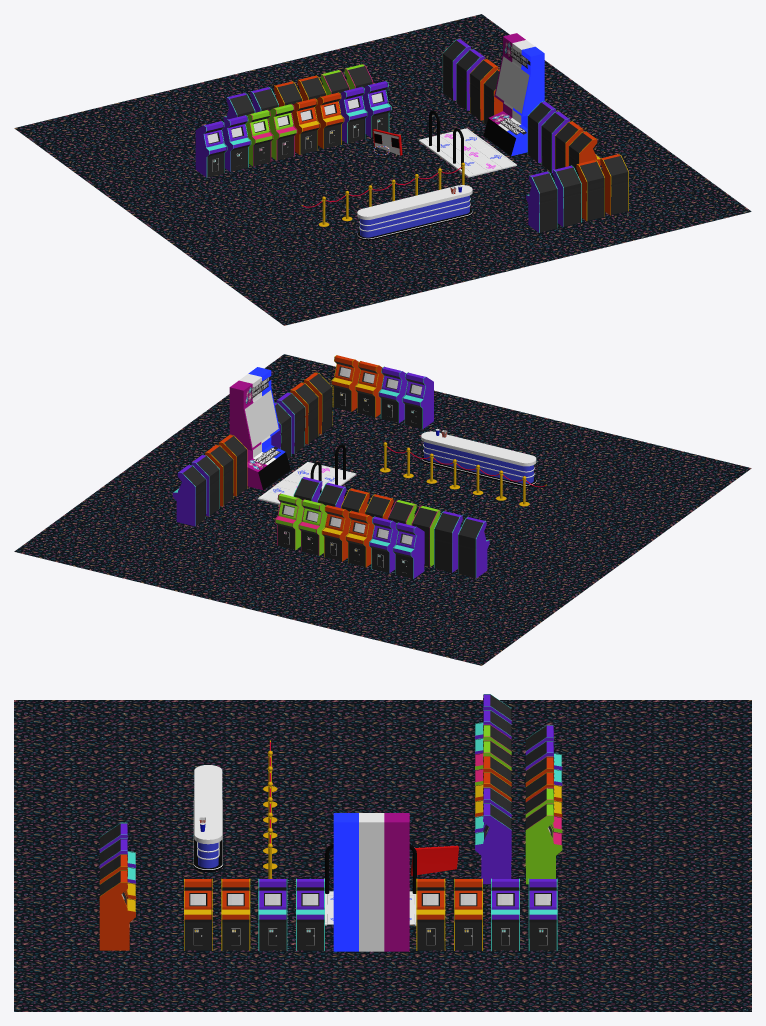
File: cenarioflipWaM.fbx
3 renders of one model, top to bottom at view 1: azimuth 30°, elevation 25°; view 2: azimuth 150°, elevation 25°; view 3: azimuth 270°, elevation 25°, orthographic. The views are drawn at different scales.
Visible parts, largest first — view 1: chao, ddr, balcaõ, arcade.011, arcade.012, arcade, arcade.001, arcade.002, arcade.003, arcade.004, arcade.006, arcade.005 (+6 smaller); view 2: chao, ddr, balcaõ, arcade, arcade.008, arcade.011, arcade.009, arcade.012, arcade.004, arcade.010, arcade.007, arcade.005 (+5 smaller); view 3: chao, ddr, arcade.004, arcade.005, arcade.006, arcade.007, balcaõ, arcade.012, arcade.002, arcade.010, arcade.008, arcade.011 (+6 smaller).
Part boxes in pixels (box(x1,y1,x2,y2)): chao: box(14, 14, 751, 325); ddr: box(418, 33, 544, 177); balcaõ: box(357, 185, 472, 240); arcade.011: box(526, 165, 581, 232); arcade.012: box(576, 153, 628, 221); arcade: box(195, 115, 251, 177); arcade.001: box(292, 92, 344, 154); arcade.002: box(339, 81, 391, 143); arcade.003: box(245, 104, 297, 166); arcade.004: box(442, 39, 484, 110); arcade.006: box(527, 101, 569, 172); arcade.005: box(469, 58, 502, 124); chao: box(14, 354, 751, 665); ddr: box(229, 367, 356, 504); balcaõ: box(421, 431, 536, 486); arcade: box(434, 511, 489, 578); arcade.008: box(369, 516, 424, 578); arcade.011: box(378, 366, 433, 429); arcade.009: box(321, 505, 374, 567); arcade.012: box(331, 355, 383, 417); arcade.004: box(172, 454, 219, 526); arcade.010: box(274, 493, 326, 555); arcade.007: box(290, 372, 332, 444); arcade.005: box(205, 434, 247, 506); chao: box(14, 700, 751, 1011); ddr: box(325, 813, 416, 951); arcade.004: box(491, 878, 557, 950); arcade.005: box(416, 878, 482, 950); arcade.006: box(258, 878, 324, 950); arcade.007: box(184, 878, 250, 950); balcaõ: box(193, 765, 222, 871); arcade.012: box(99, 854, 135, 950); arcade.002: box(475, 787, 511, 884); arcade.010: box(525, 787, 562, 884); arcade.008: box(525, 725, 562, 785); arcade.011: box(99, 822, 135, 883).
Bounding box in the file's own units: 6954 × 1407 × 6954.
